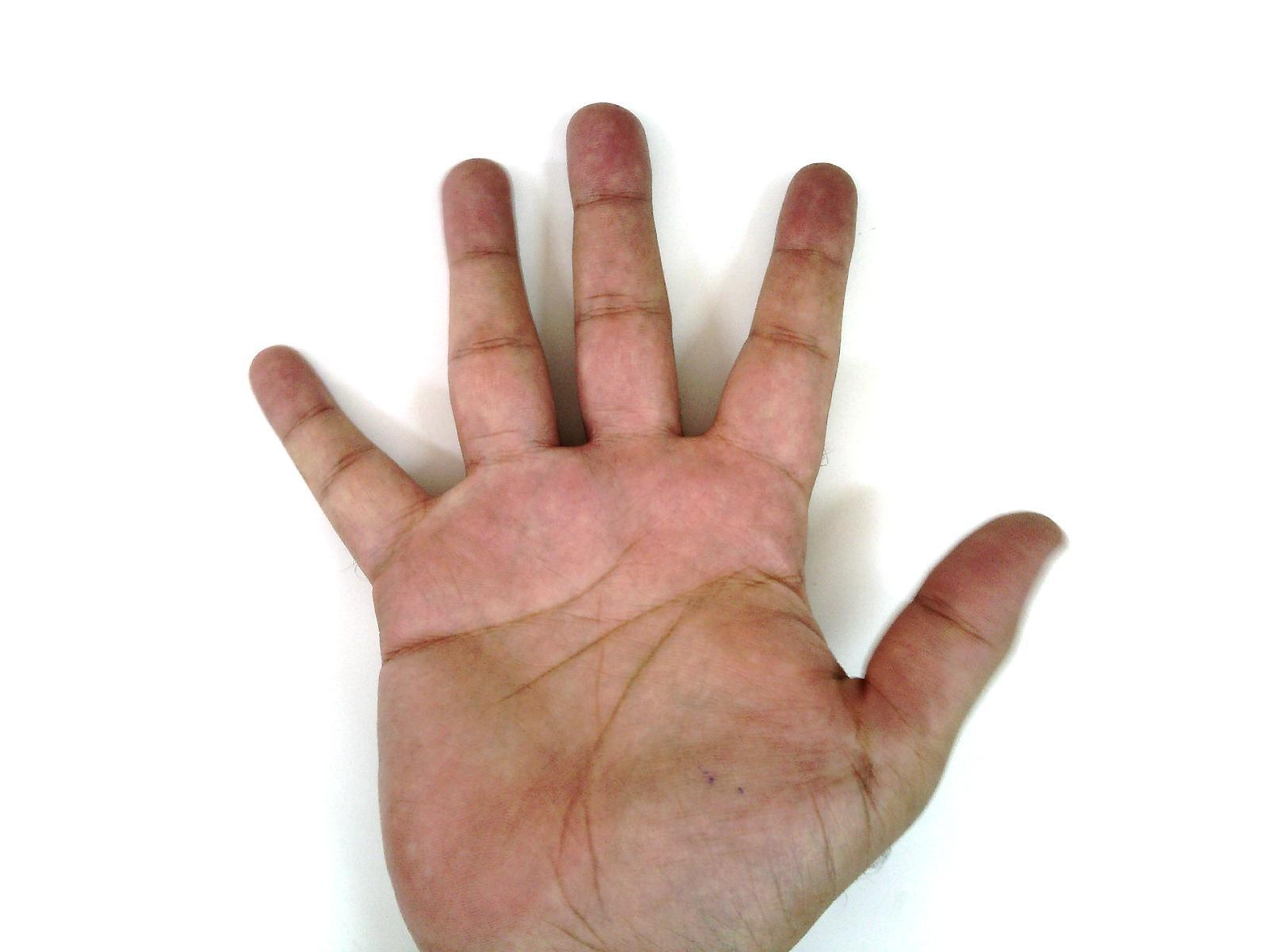open_palm: (246, 101, 1070, 951)
